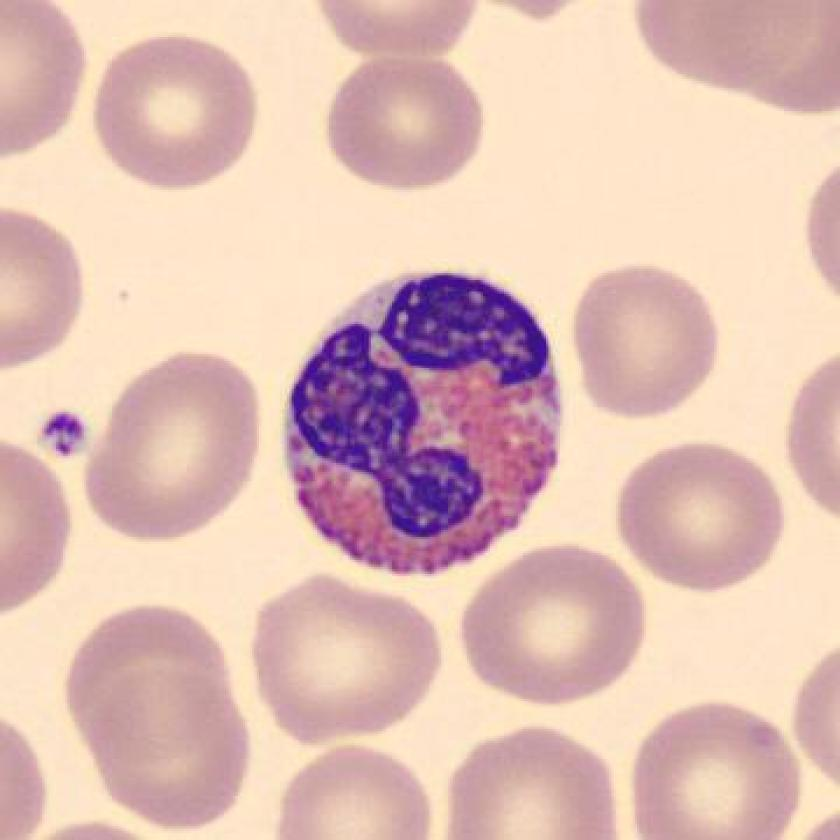eosinophil: (274, 253, 577, 582)
